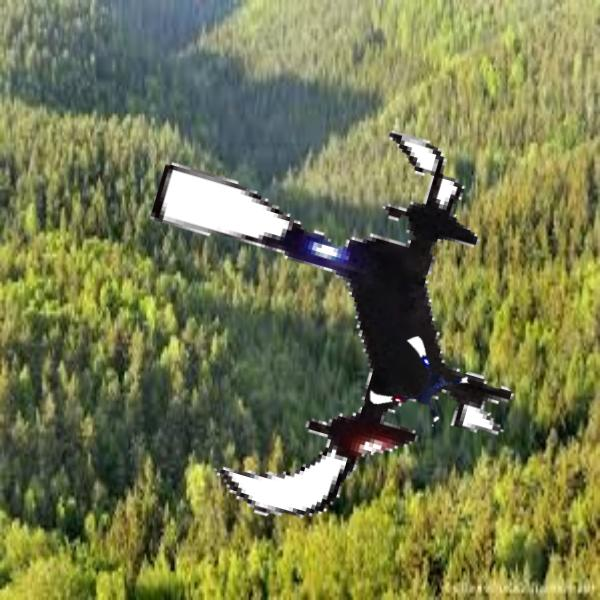drone: (129, 114, 551, 536), (376, 339, 468, 431)
